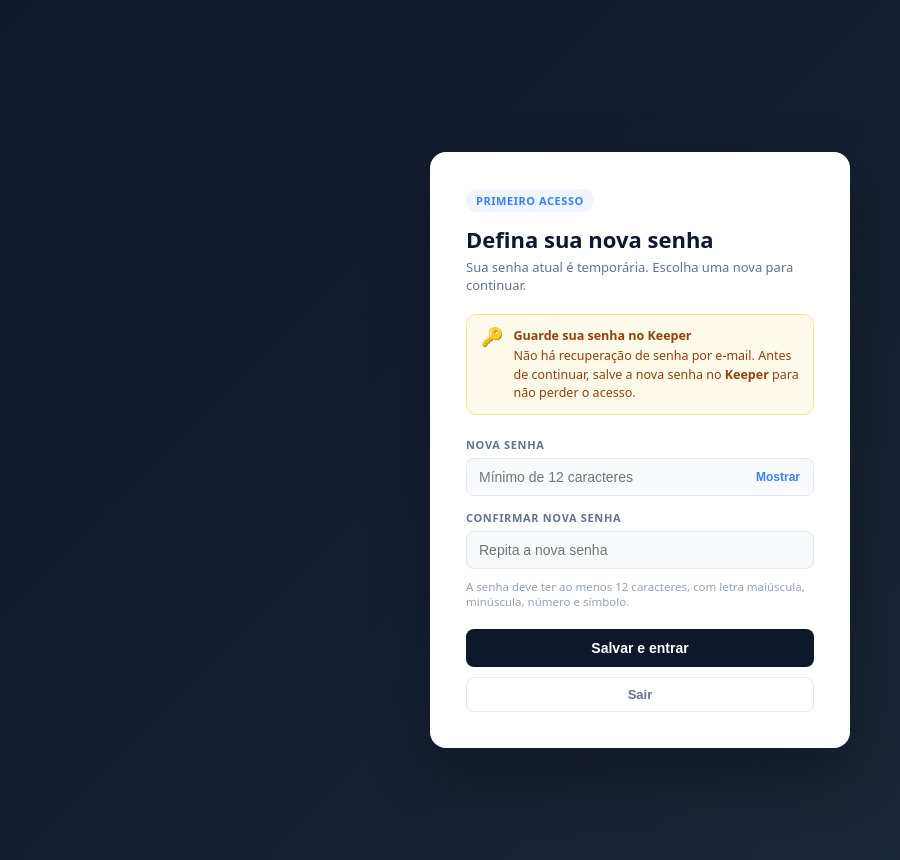
Test: ForcePasswordChange › bloqueia quando as senhas não conferem
The image size is (900, 860).
In the password field with placeholder "Mínimo de 12 caracteres": (640, 477) [466,458,814,496], type "NovaSenha123!"
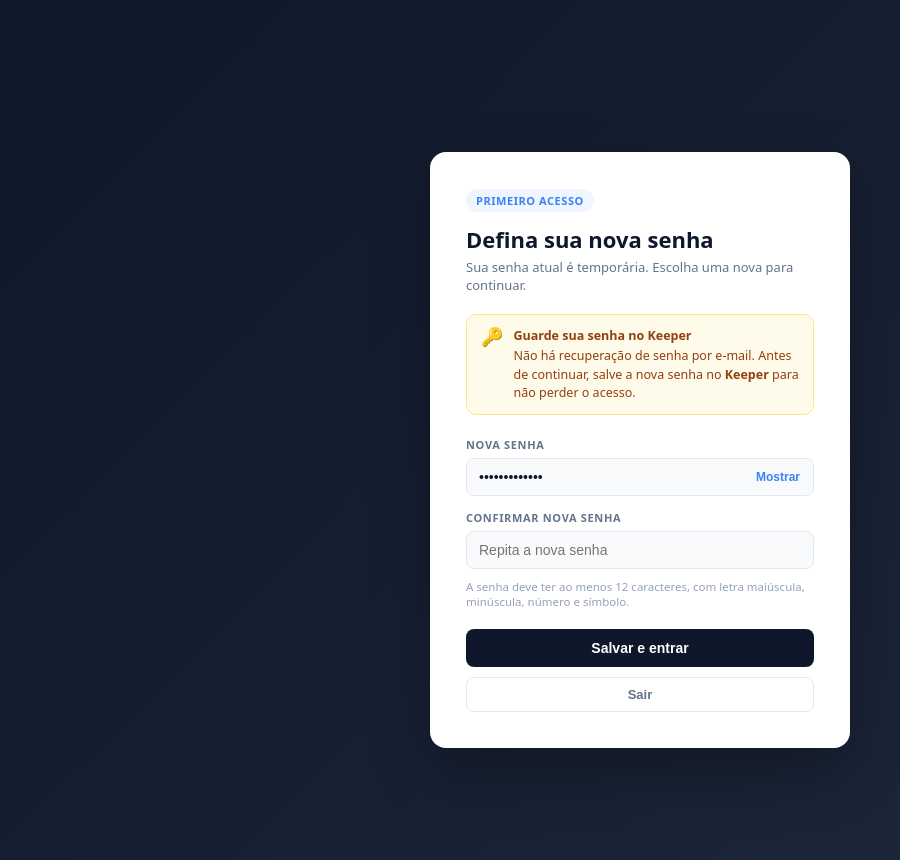
In the password field with placeholder "Repita a nova senha": (640, 550) [466,531,814,569], type "Diferente123!"
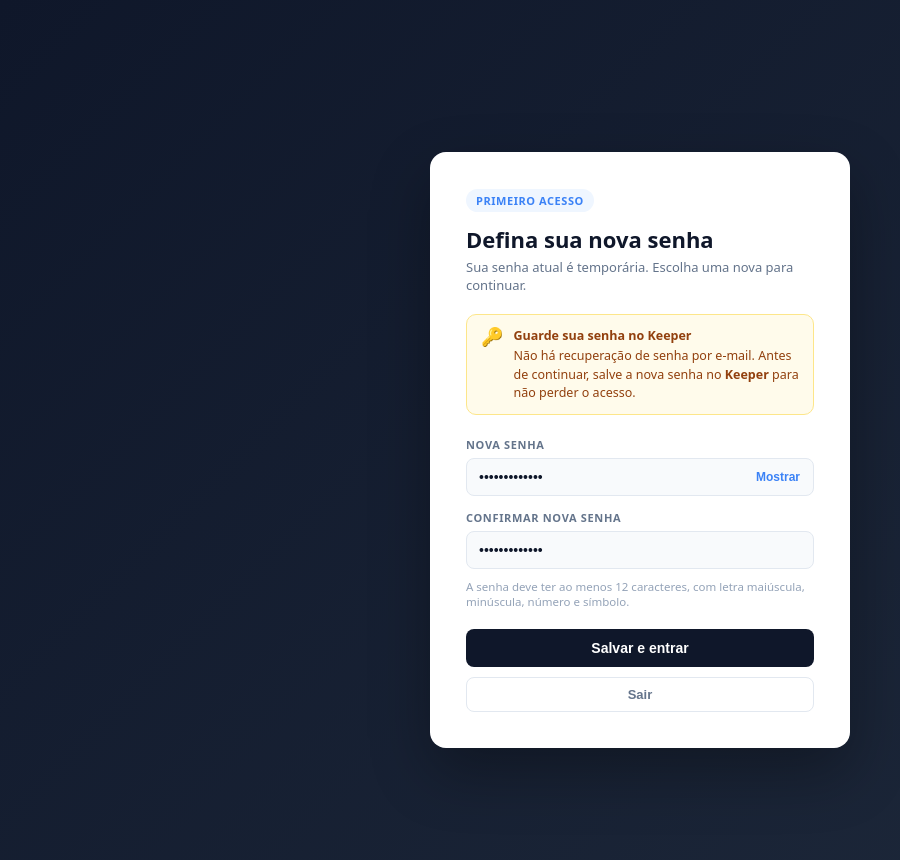
Click the button "Salvar e entrar": (640, 648) [466,629,814,667]
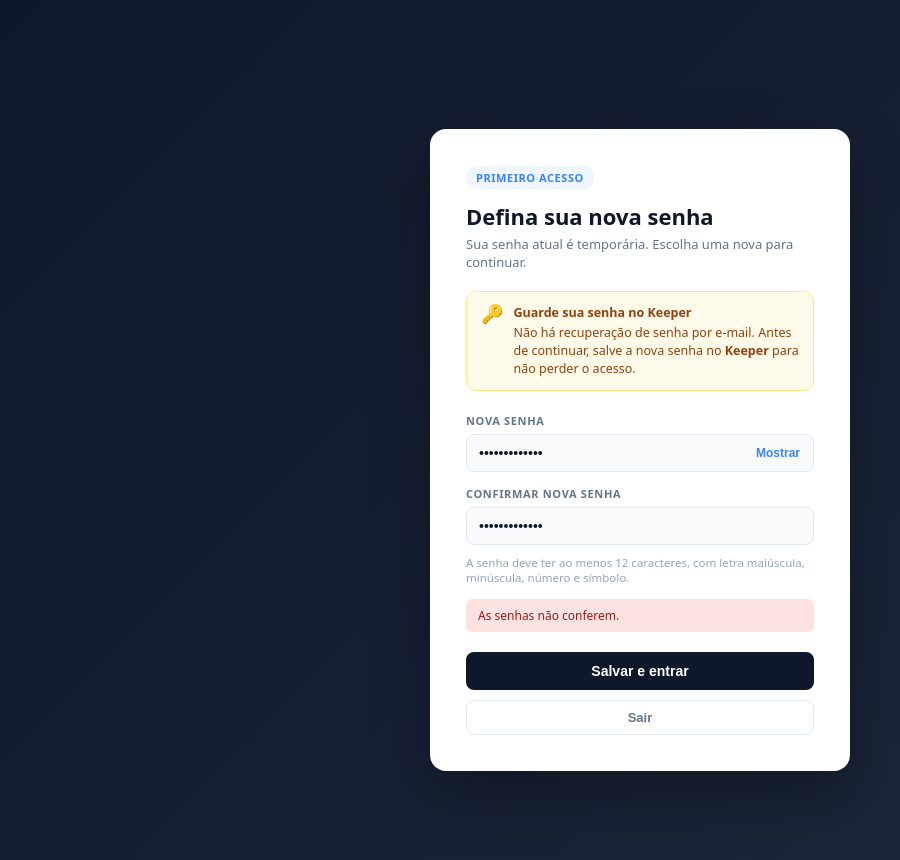
Now the text "As senhas não conferem." is shown, box [466,599,814,632]
